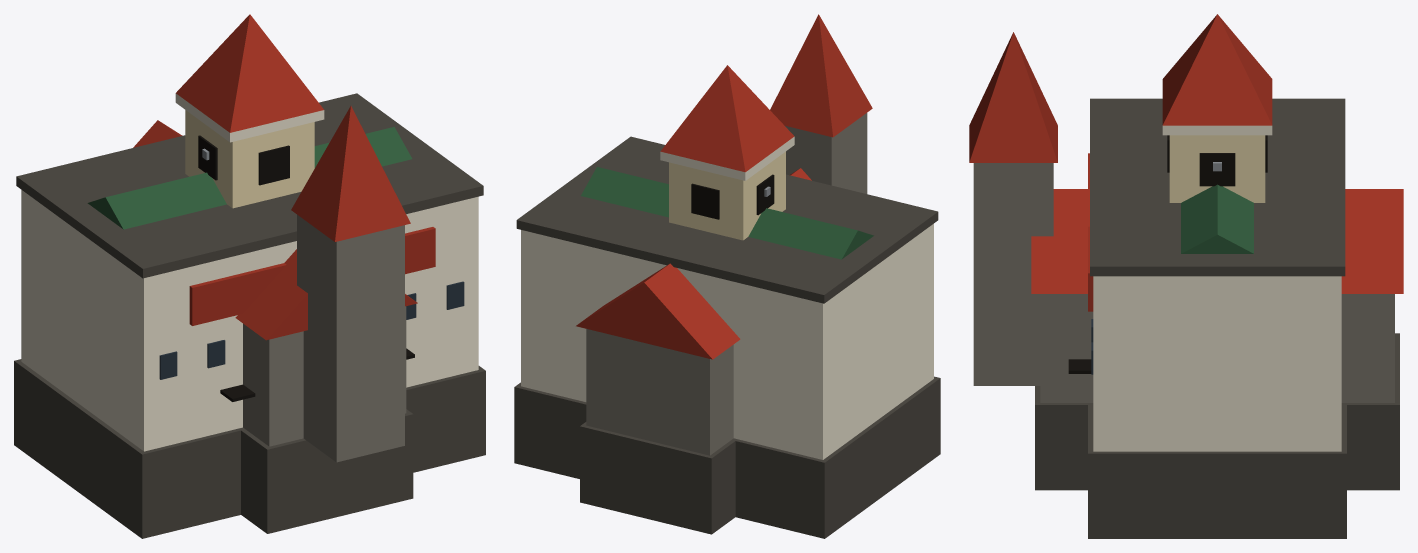
File: props.glb
The picture shows the model from 3 angles, left to right: view 1: azimuth 30°, elevation 25°; view 2: azimuth 150°, elevation 25°; view 3: azimuth 270°, elevation 25°; orthographic projection. The views are drawn at different scales.
Visible parts, largest first — view 1: P_PicturePalace, P_Church, P_ClockTower, P_ShopRow; view 2: P_PicturePalace, P_Church, P_ClockTower, P_ShopRow; view 3: P_PicturePalace, P_Church, P_ClockTower, P_ShopRow.
Part boxes in pixels (x1,y1,x2,y2): P_PicturePalace: (14,93,485,538); P_Church: (133,106,417,533); P_ClockTower: (175,14,324,208); P_ShopRow: (87,127,412,229); P_PicturePalace: (514,136,940,538); P_Church: (576,14,872,534); P_ClockTower: (660,65,794,240); P_ShopRow: (581,167,873,259); P_PicturePalace: (1068,98,1346,538); P_Church: (969,32,1403,490); P_ClockTower: (1162,14,1272,202); P_ShopRow: (1181,184,1253,253).
Bounding box in the file's own units: 22.6 × 27.4 × 24.5.
